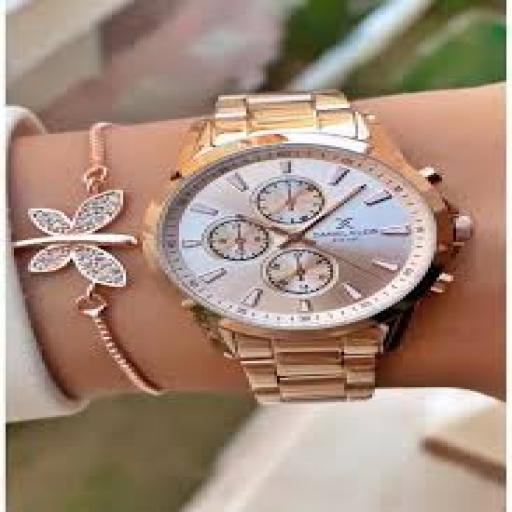KolSaati: (100, 48, 478, 422)
